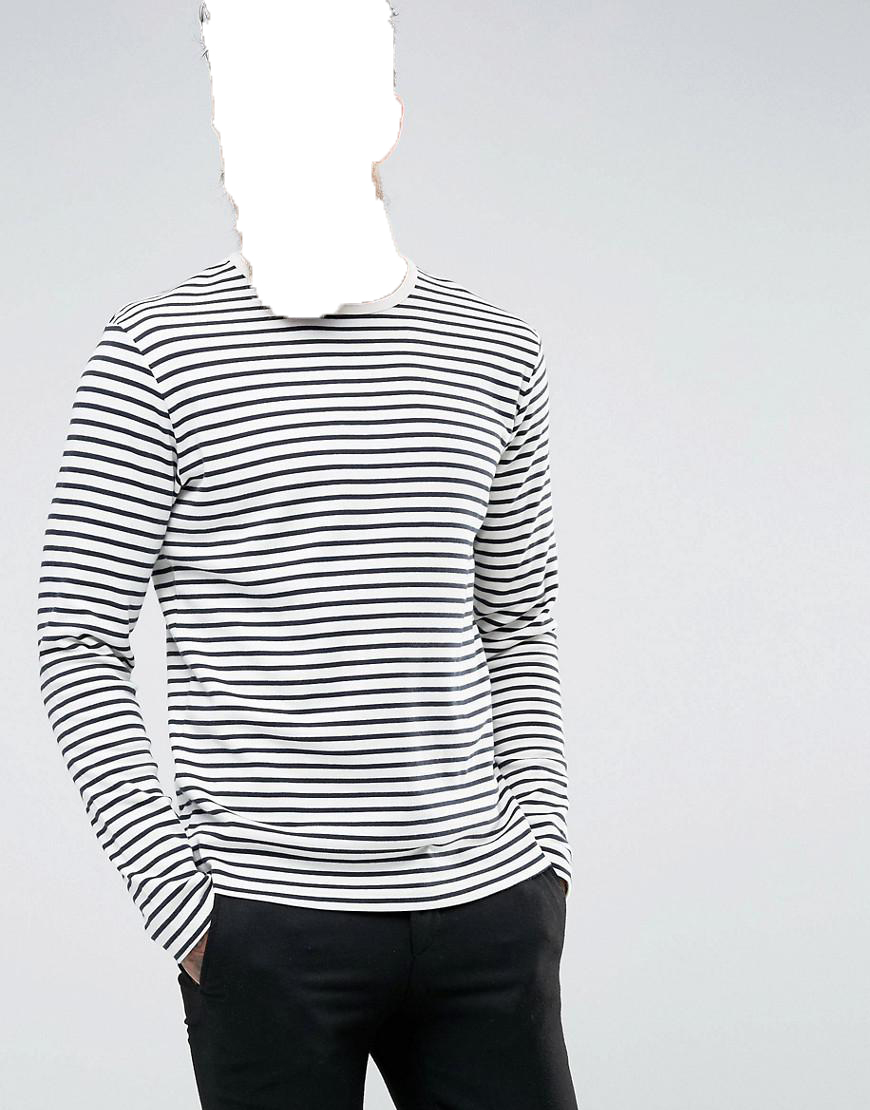teeshirt: (44, 266, 600, 946)
